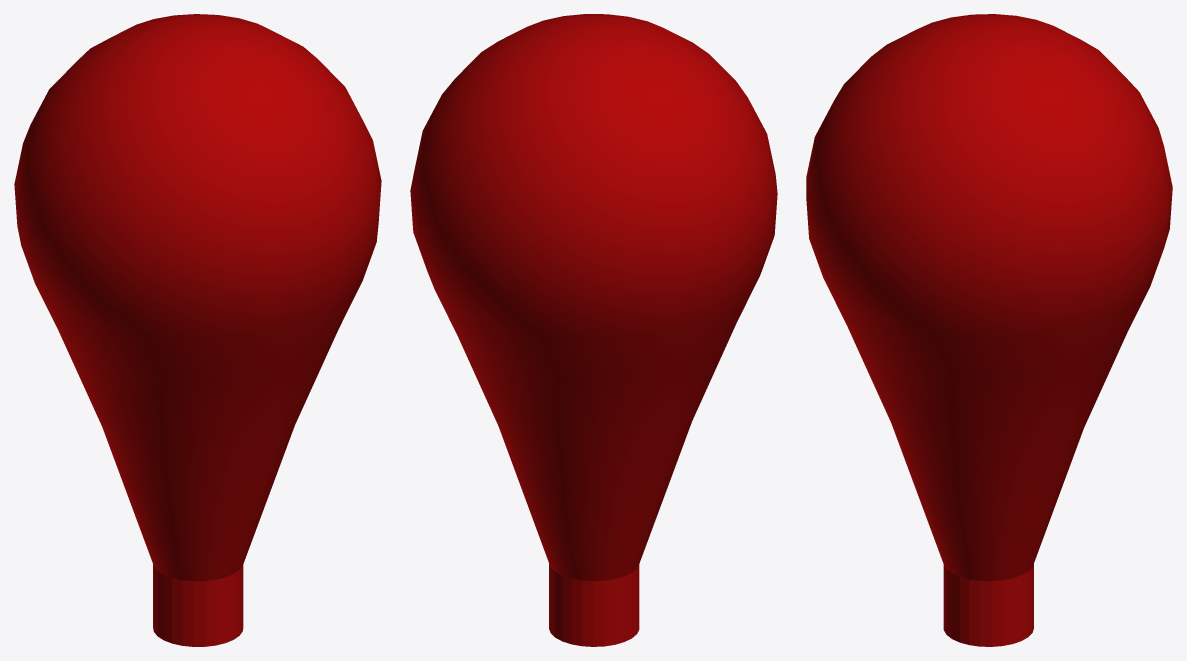
Rendered from SM_移液管橡胶吸球.fbx.
The picture shows the model from 3 angles, left to right: view 1: azimuth 30°, elevation 25°; view 2: azimuth 150°, elevation 25°; view 3: azimuth 270°, elevation 25°; orthographic projection.
Visible parts, largest first — view 1: SM_移液管橡胶吸球; view 2: SM_移液管橡胶吸球; view 3: SM_移液管橡胶吸球.
Part boxes in pixels (x1=…): SM_移液管橡胶吸球: x1=14, y1=14, x2=381, y2=646; SM_移液管橡胶吸球: x1=410, y1=14, x2=777, y2=646; SM_移液管橡胶吸球: x1=806, y1=14, x2=1172, y2=646.
Size of the model in its own units: 0.0138 by 0.0247 by 0.0137.
